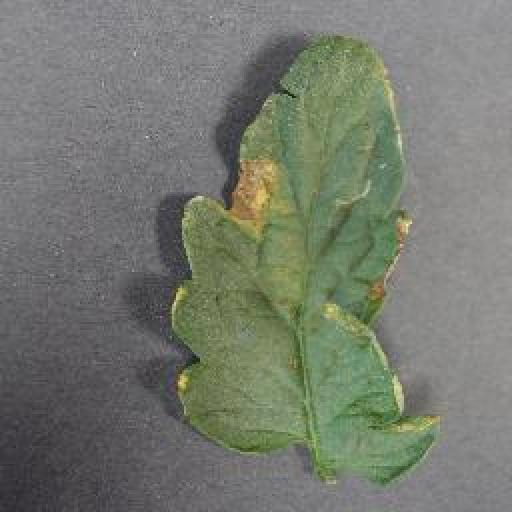Bacterial Spot: (168, 33, 447, 487)
